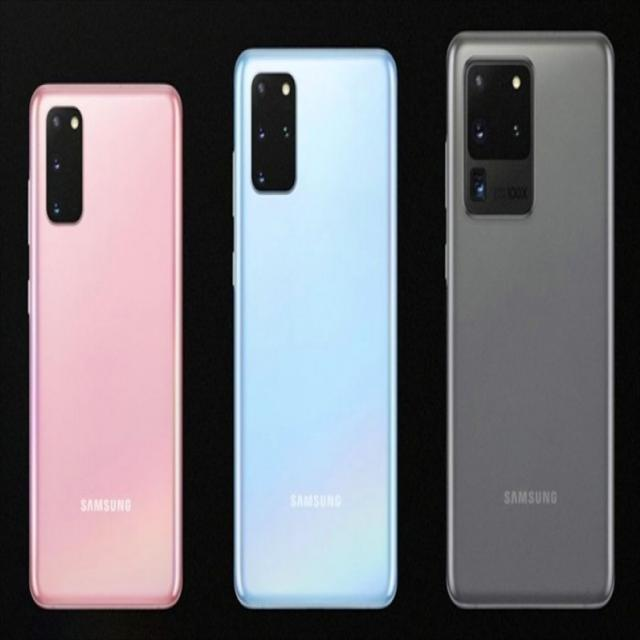phone: (444, 34, 614, 605), (232, 46, 397, 610), (28, 79, 182, 608)
